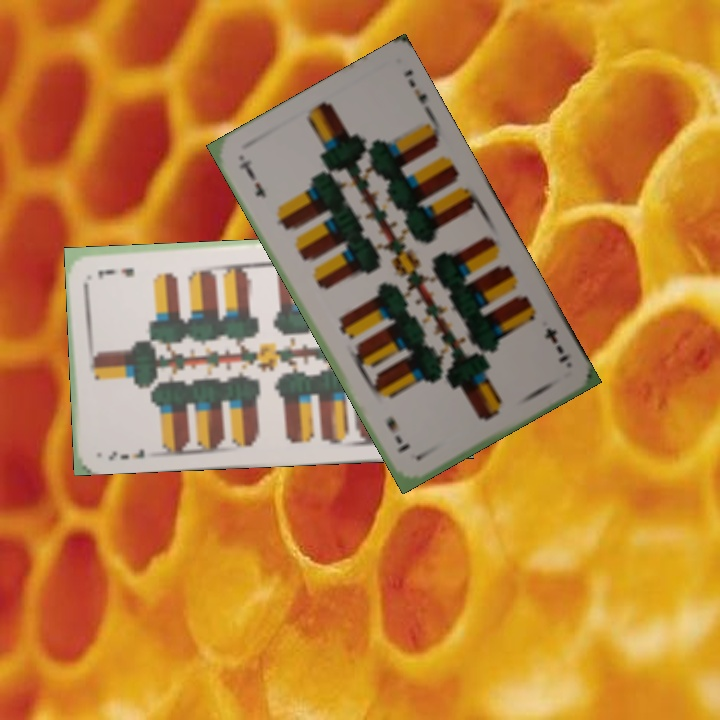E7: (234, 155, 269, 201), (540, 323, 572, 366), (105, 444, 148, 463)
